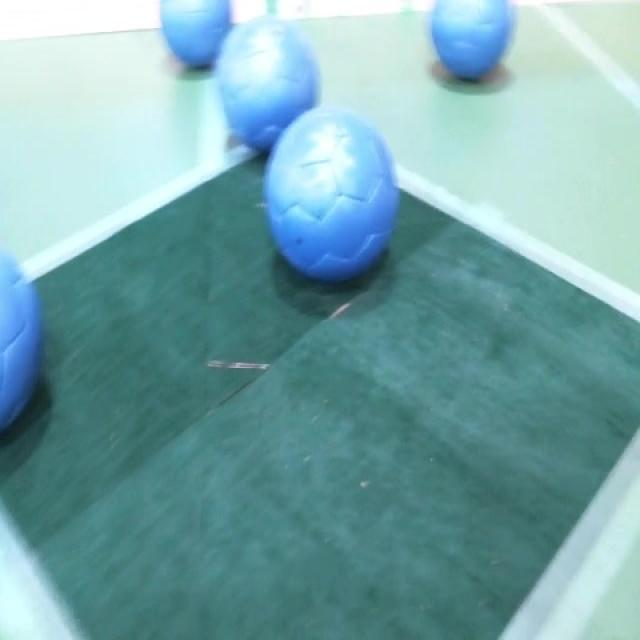blue_ball: (267, 108, 398, 285), (216, 16, 318, 150), (0, 249, 44, 439), (432, 0, 514, 81), (156, 0, 232, 67)
